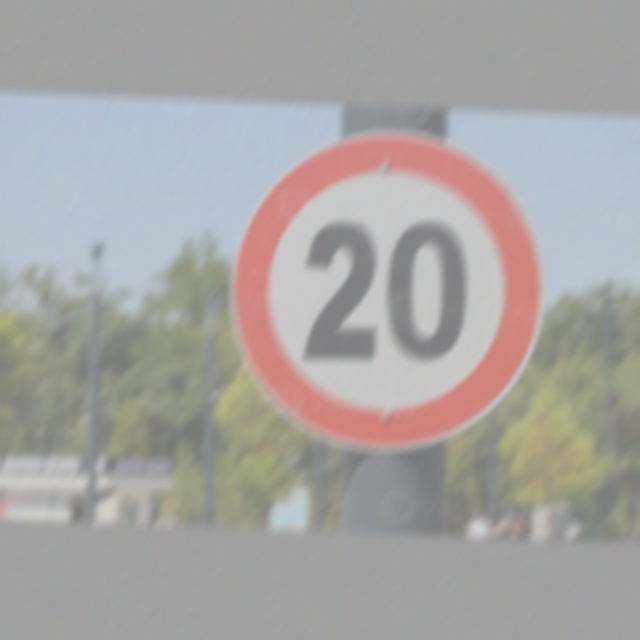Speed_Limit_20: (230, 121, 543, 442)
